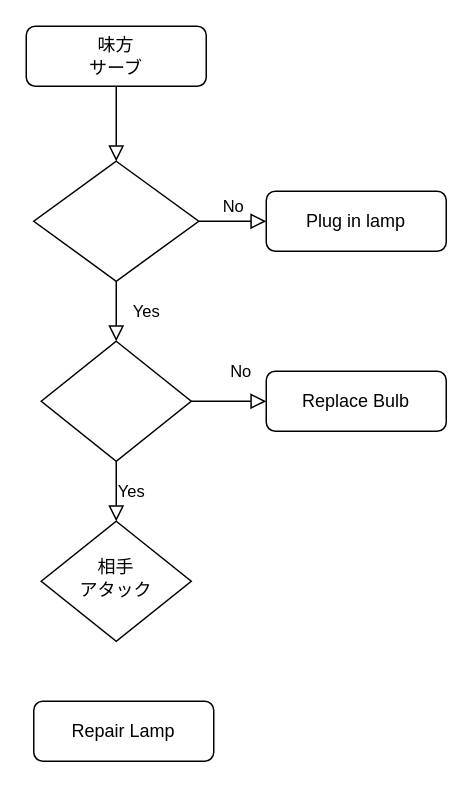
This 473x788 diagram has some shape labels left out. Each missing label, with the box of its shape:
相手 アンダートス: (32, 160, 199, 281)
相手 オーバートス: (40, 340, 191, 461)
